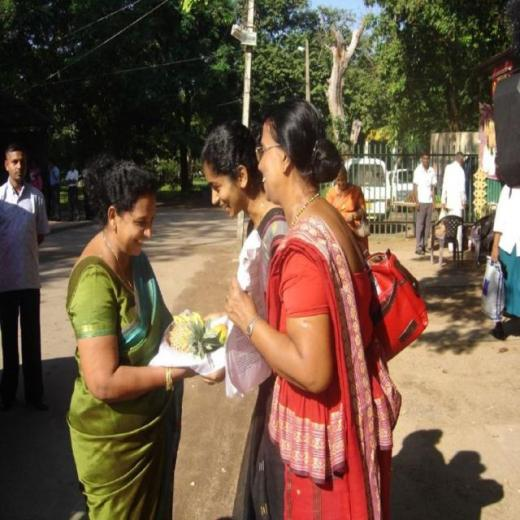Mango: (169, 319, 226, 359)
